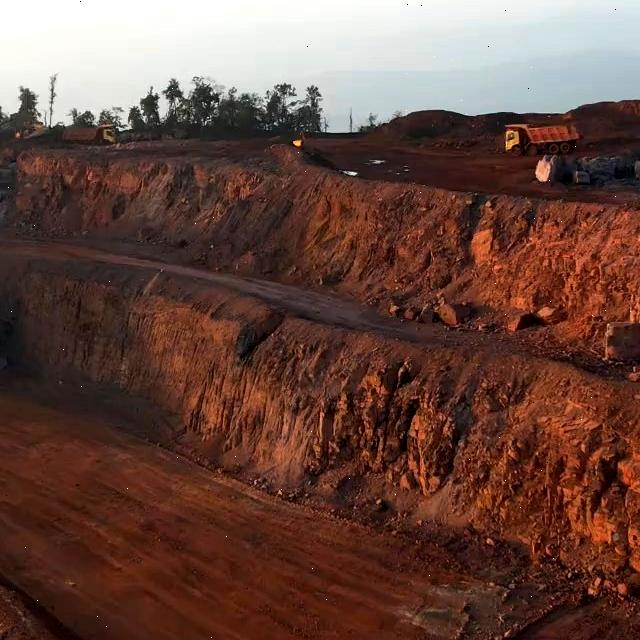Dumper truck: (505, 124, 576, 155), (63, 126, 114, 147)
